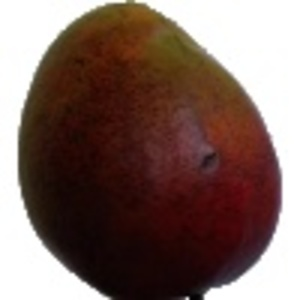manga: (17, 1, 284, 300)
